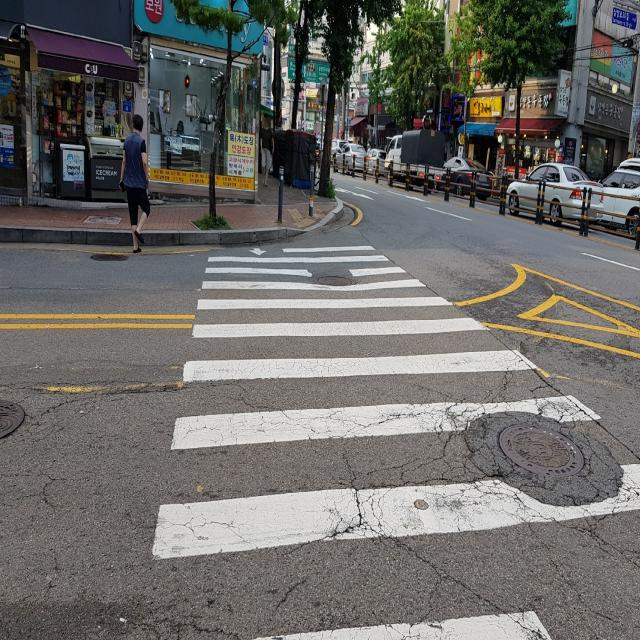횡단보도: (151, 248, 640, 640)
